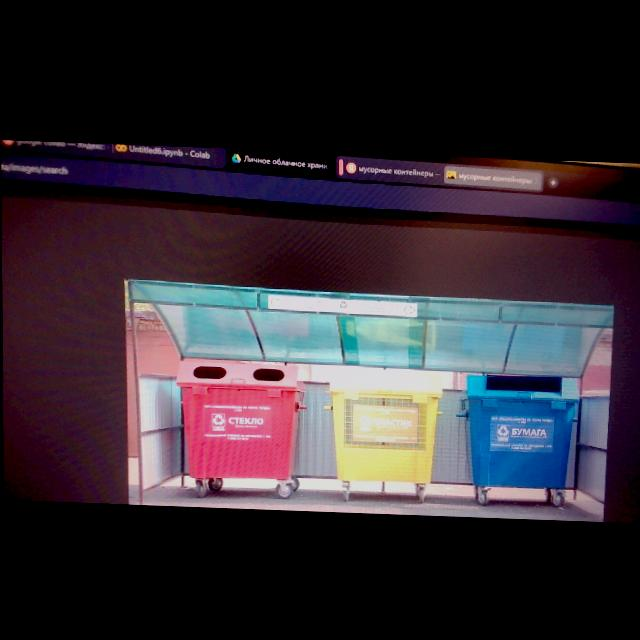Trash_Can_Closed: (178, 355, 307, 478), (465, 366, 584, 484)
Trash_Can_Empty: (327, 365, 442, 480)
